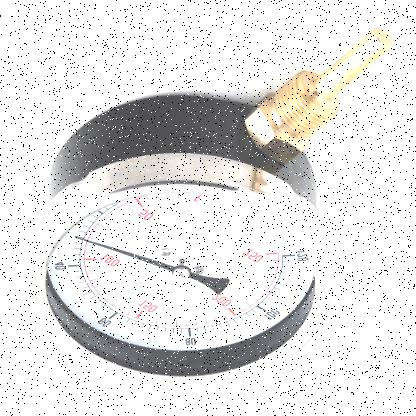needle: (74, 234, 175, 272)
